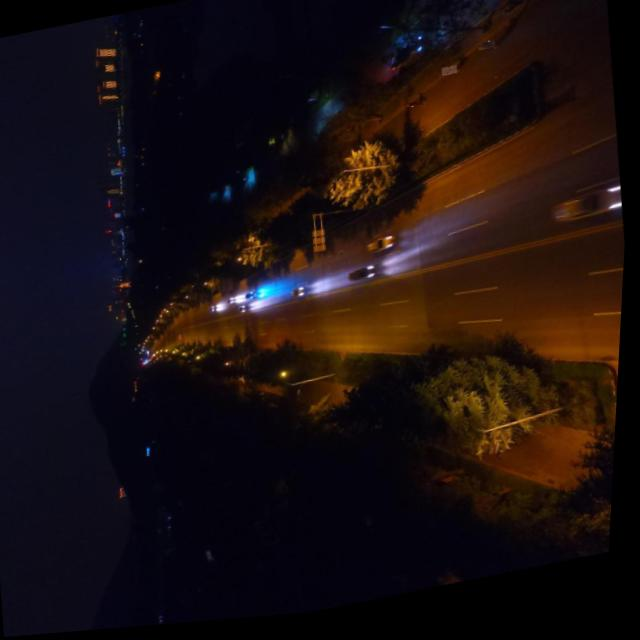Person: (478, 47, 496, 58), (442, 72, 458, 83), (406, 106, 423, 115), (243, 180, 250, 183)
